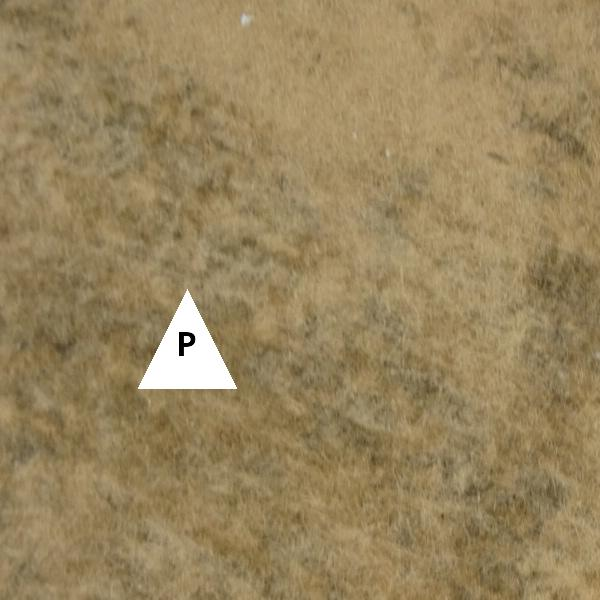Triangle: (137, 289, 237, 389)
